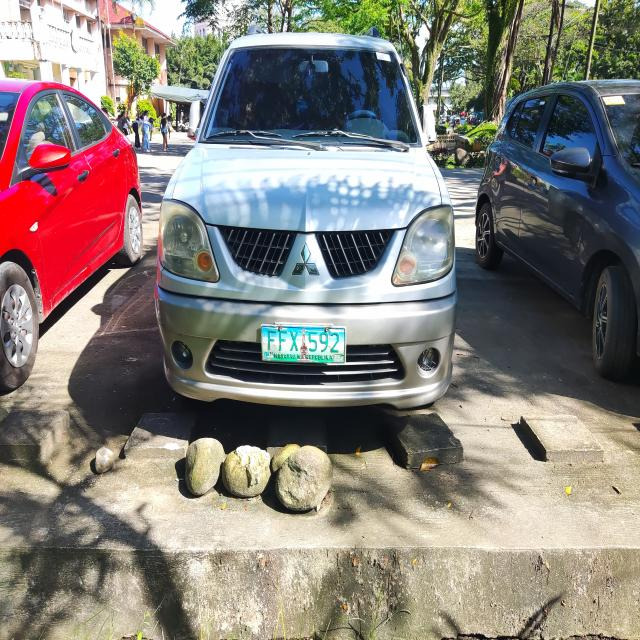plate: (259, 322, 348, 366)
